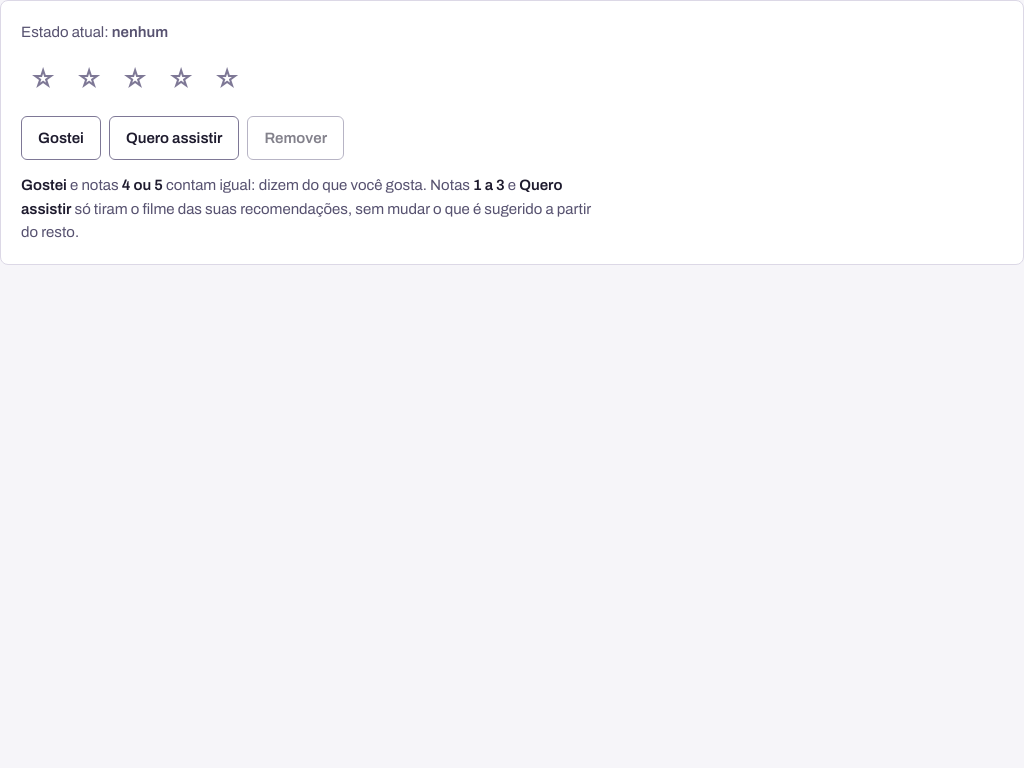
Test: ControleInteracao: falha de rede numa escrita (spec 7) › um erro da API (não de rede) não oferece "Tentar de novo"
The image size is (1024, 768).
Click the button "Gostei".
click(61, 138)  # box 21,116 -> 101,160
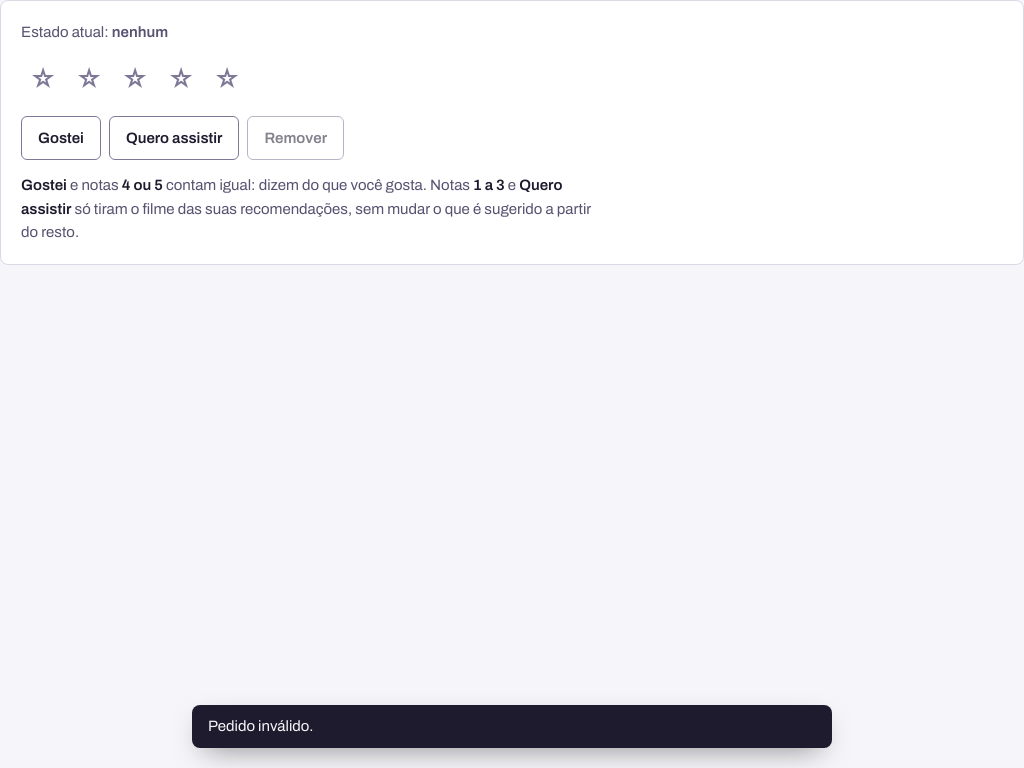
Now the text "Pedido inválido." is shown, box 208,715 -> 314,738
